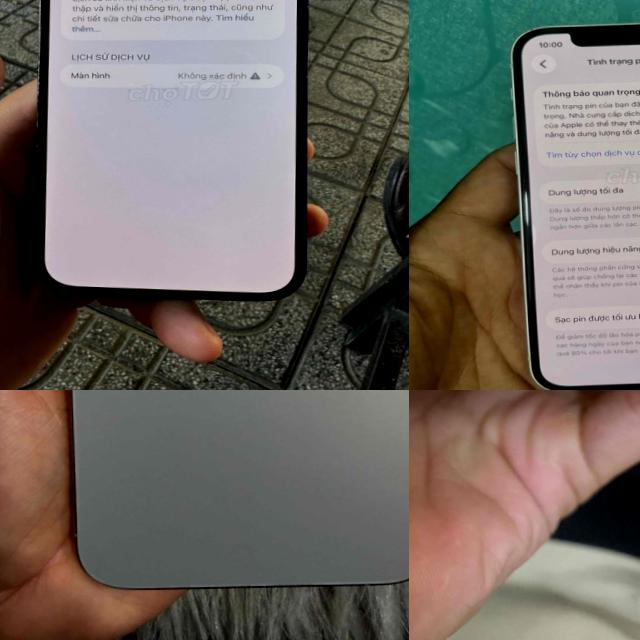gen_12_13: (500, 14, 640, 390)
gen_14: (17, 0, 321, 304)
gen_15: (42, 390, 409, 615)
